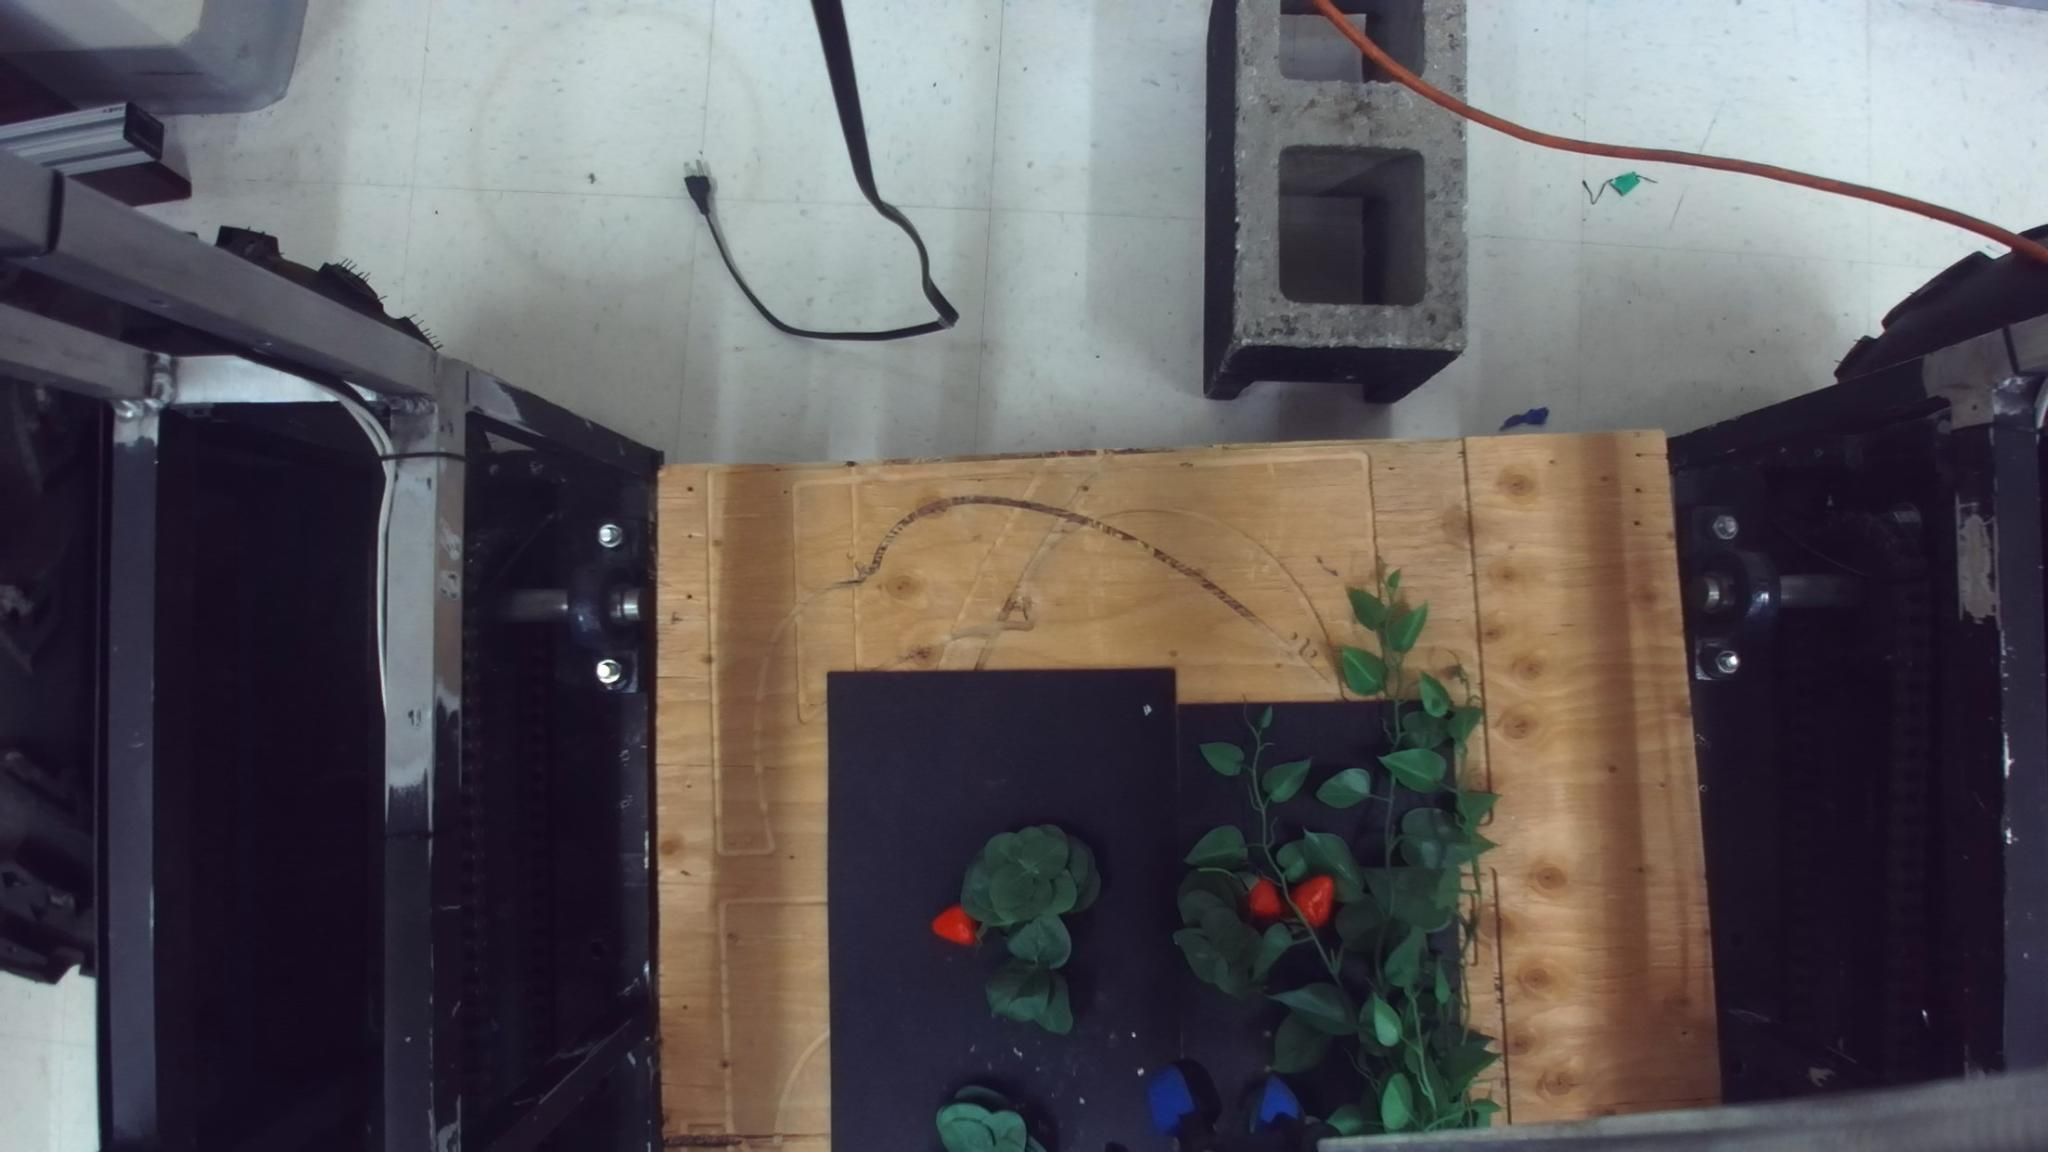strawberry: (1288, 873, 1335, 928), (931, 903, 982, 947), (1245, 876, 1281, 923)
